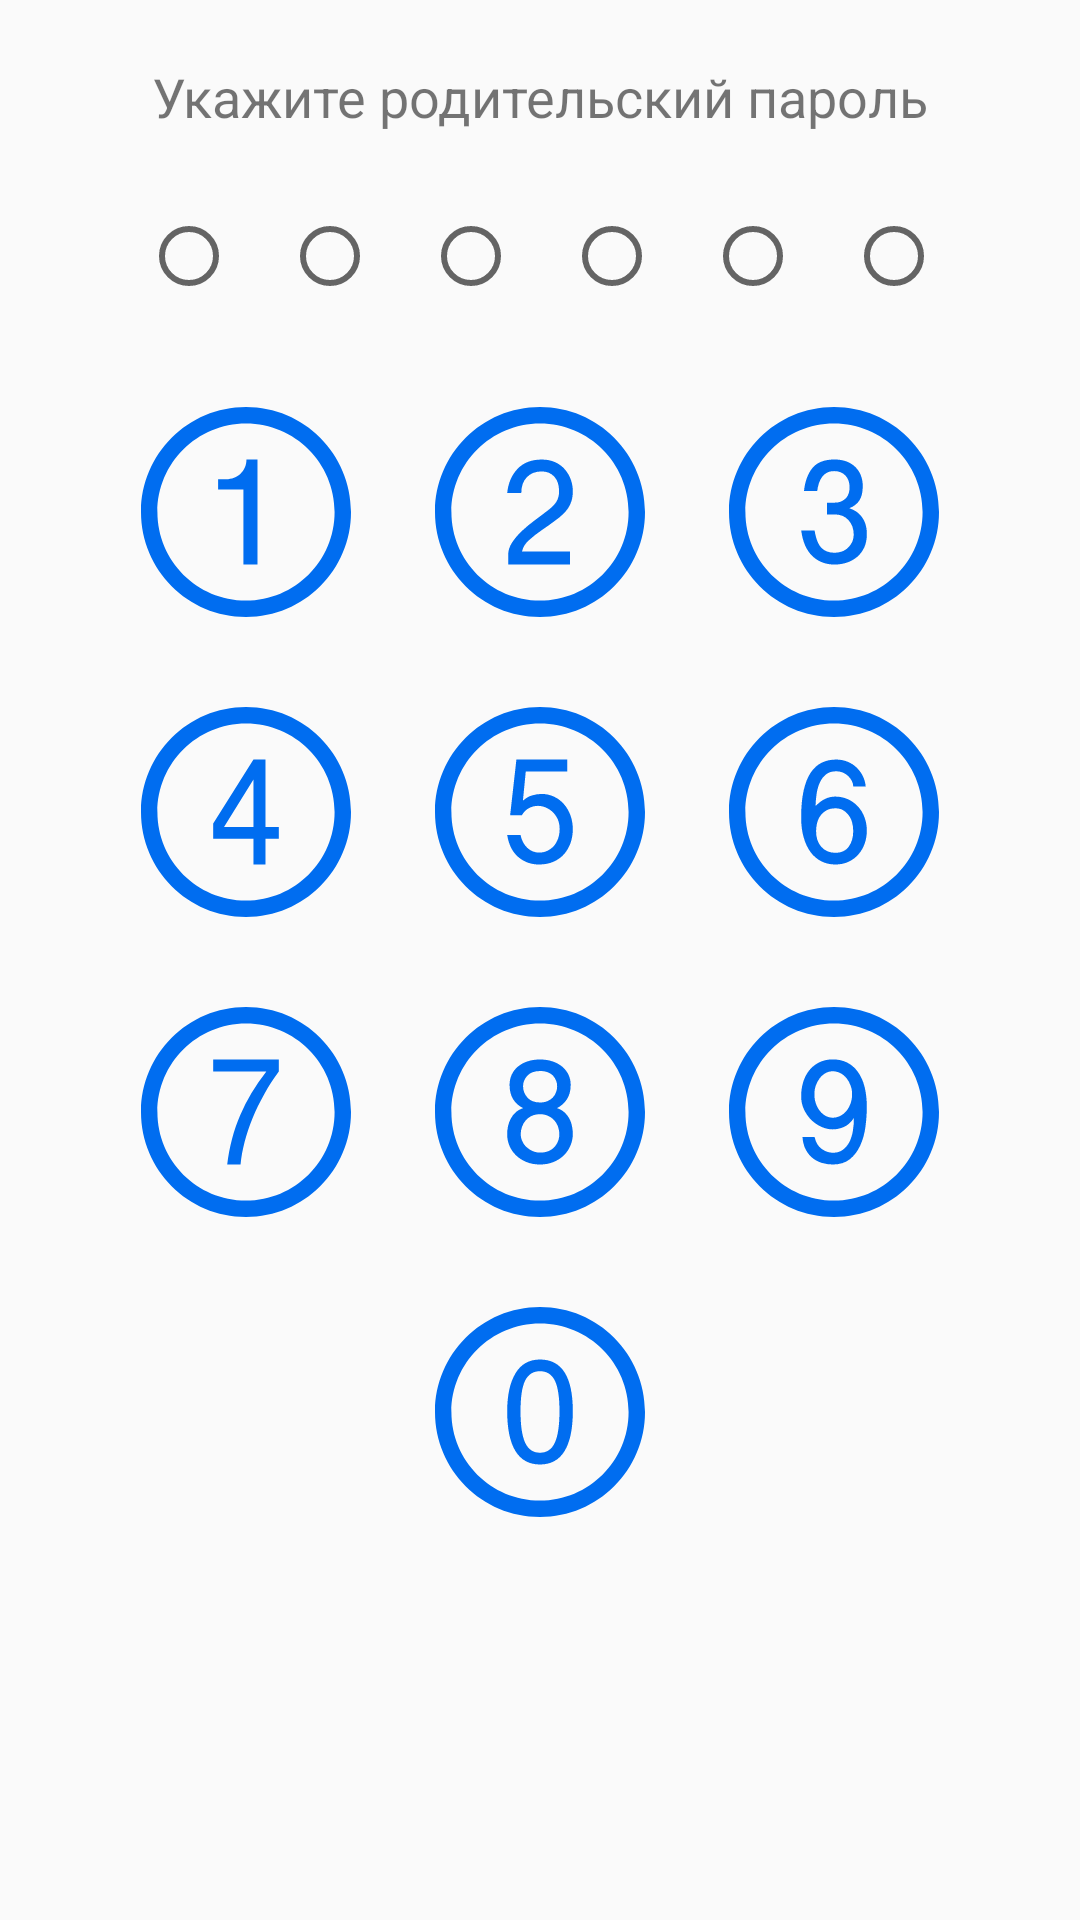

Icon bounding boxes for this 1080px×1920px phone screenshot, format (x1, y1, x2, y2):
number eight in circle: (435, 1007, 645, 1217)
number five in circular: (435, 707, 645, 917)
number four in circular: (141, 707, 351, 917)
number nine in circle: (729, 1007, 939, 1217)
number one in circle: (141, 407, 351, 617)
number seven in circle: (141, 1007, 351, 1217)
number six in circle: (729, 707, 939, 917)
number three in circle: (729, 407, 939, 617)
number two in circle: (435, 407, 645, 617)
number zero in circle: (435, 1307, 645, 1517)
